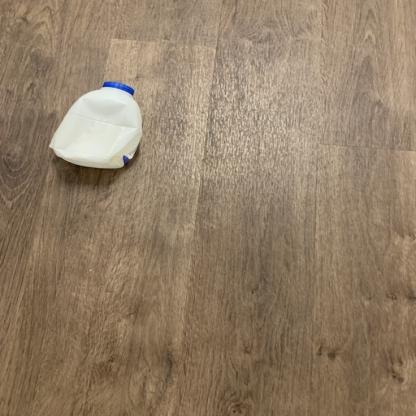trash: (51, 77, 150, 174)
